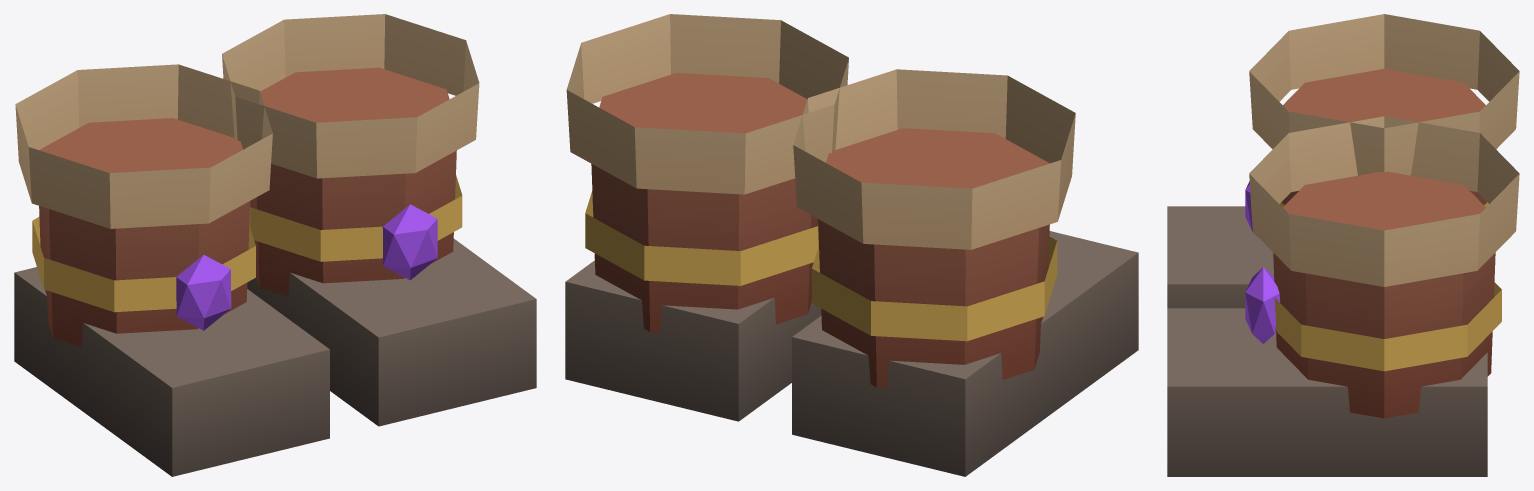
The model's file is hunter_boots_t3.glb.
3 views of the same model, side by side, from view 1: azimuth 30°, elevation 25°; view 2: azimuth 150°, elevation 25°; view 3: azimuth 270°, elevation 25° (orthographic). The views are drawn at different scales.
Visible parts, largest first — view 1: hunter_boots_t3__lowerleg_r, hunter_boots_t3__lowerleg_l, hunter_boots_t3__foot_r, hunter_boots_t3__foot_l; view 2: hunter_boots_t3__lowerleg_r, hunter_boots_t3__lowerleg_l, hunter_boots_t3__foot_r, hunter_boots_t3__foot_l; view 3: hunter_boots_t3__lowerleg_l, hunter_boots_t3__foot_l, hunter_boots_t3__lowerleg_r, hunter_boots_t3__foot_r.
Boxes of the visible parts, x1=… form: hunter_boots_t3__lowerleg_r: x1=15, y1=64, x2=272, y2=347; hunter_boots_t3__lowerleg_l: x1=222, y1=14, x2=479, y2=296; hunter_boots_t3__foot_r: x1=14, y1=267, x2=329, y2=476; hunter_boots_t3__foot_l: x1=247, y1=238, x2=536, y2=426; hunter_boots_t3__lowerleg_r: x1=793, y1=69, x2=1075, y2=387; hunter_boots_t3__lowerleg_l: x1=566, y1=14, x2=848, y2=332; hunter_boots_t3__foot_r: x1=792, y1=231, x2=1138, y2=476; hunter_boots_t3__foot_l: x1=565, y1=260, x2=821, y2=421; hunter_boots_t3__lowerleg_l: x1=1245, y1=116, x2=1519, y2=418; hunter_boots_t3__foot_l: x1=1167, y1=308, x2=1487, y2=476; hunter_boots_t3__lowerleg_r: x1=1245, y1=14, x2=1519, y2=236; hunter_boots_t3__foot_r: x1=1167, y1=206, x2=1273, y2=308.
Size of the model in its own units: 0.72 by 0.41 by 0.495.
Materials: 2 (1 with a texture image).
